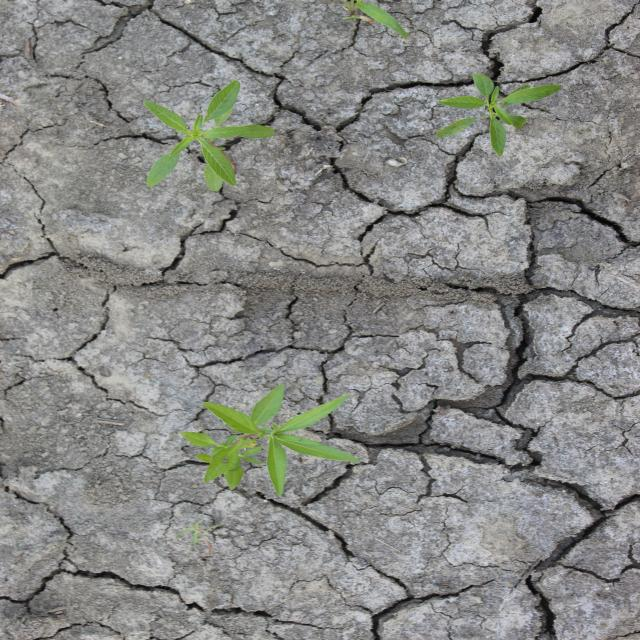Eclipta: (178, 382, 364, 500)
Waterhemp: (141, 80, 278, 192), (434, 72, 564, 158)
